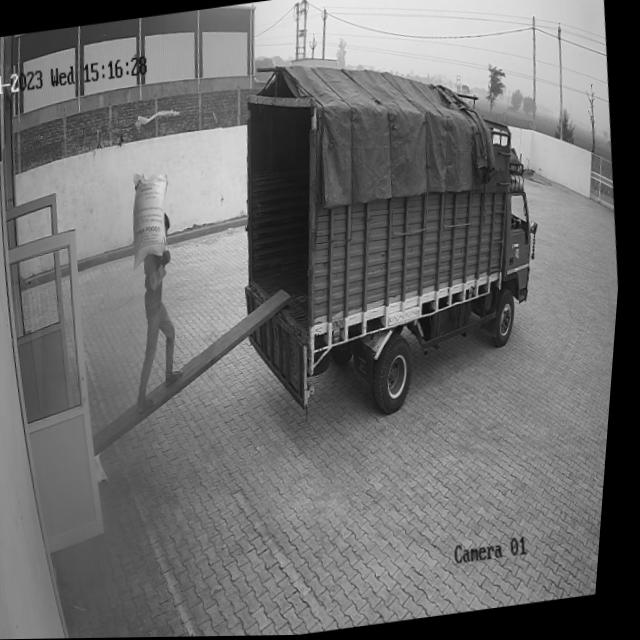sack: (124, 167, 182, 270)
